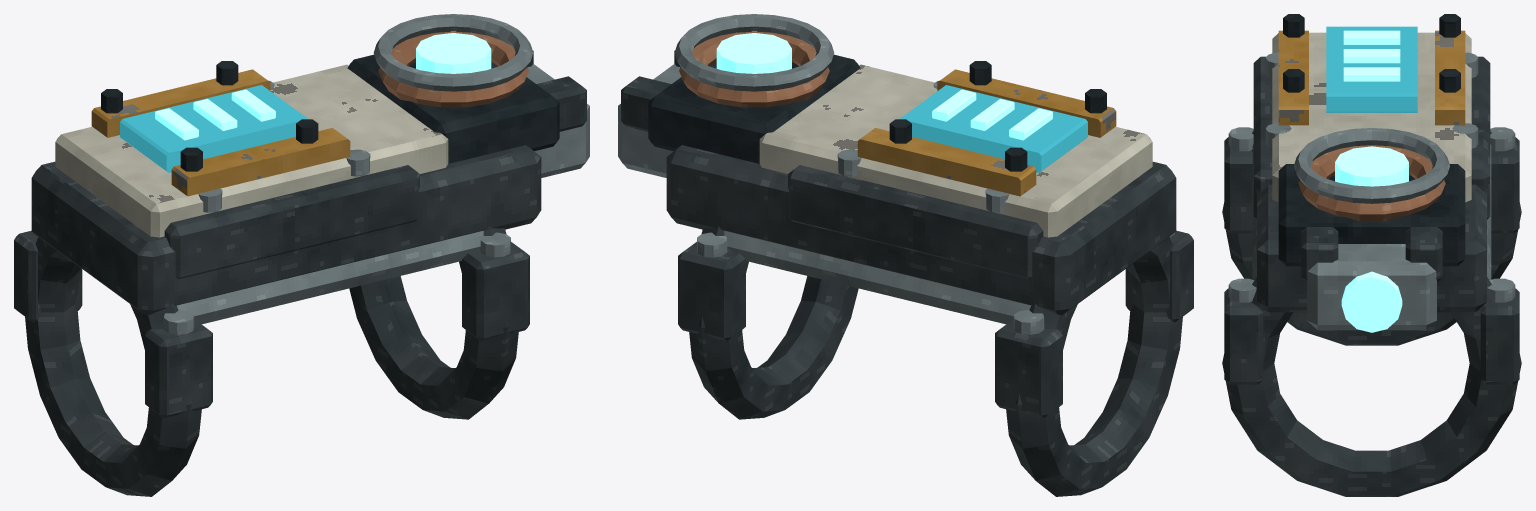
Rendered from glyph_gauntlet_left.glb.
3 views of the same model, side by side, from view 1: azimuth 30°, elevation 25°; view 2: azimuth 150°, elevation 25°; view 3: azimuth 270°, elevation 25° (orthographic). The views are drawn at different scales.
Visible parts, largest first — view 1: glyph_gauntlet_left; view 2: glyph_gauntlet_left; view 3: glyph_gauntlet_left.
Part boxes in pixels (left/top/right/bottom): glyph_gauntlet_left: left=14, top=14, right=589, bottom=496; glyph_gauntlet_left: left=618, top=14, right=1193, bottom=496; glyph_gauntlet_left: left=1222, top=14, right=1521, bottom=496.
Bounding box in the file's own units: 0.254 × 0.1774 × 0.138.
Materials: 8 (6 with a texture image).
